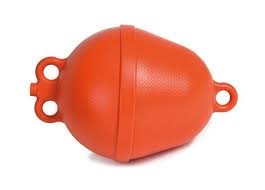buoy: (68, 24, 215, 161)
